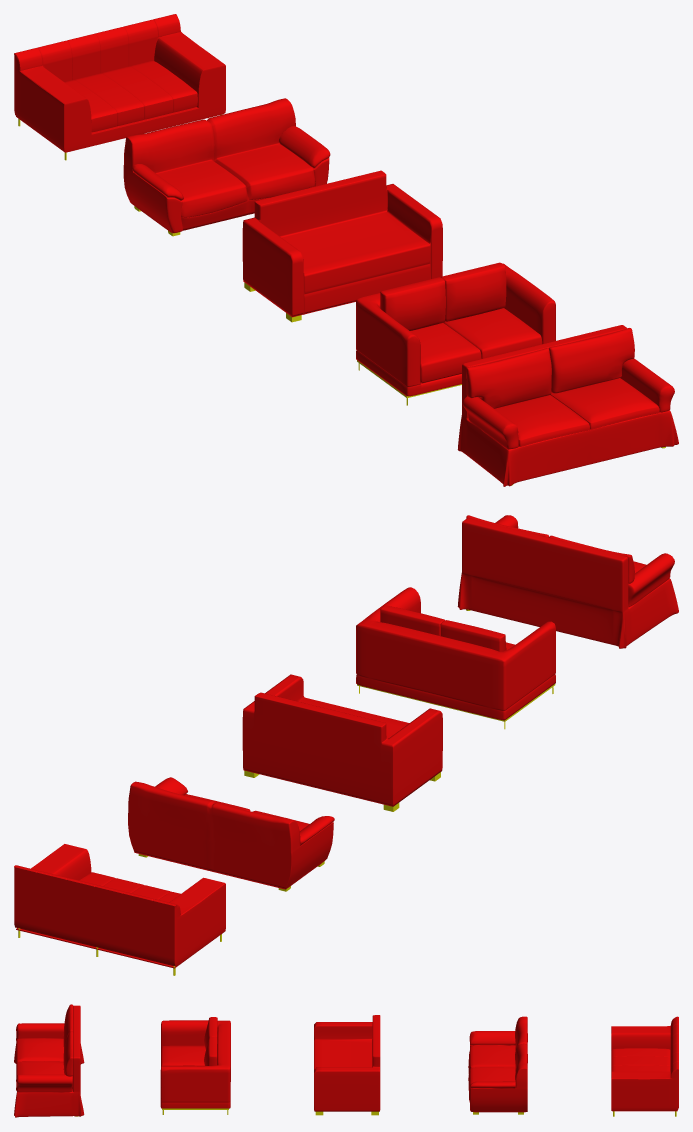
File: RoboTHOR_sofas_grp.fbx
The picture shows the model from 3 angles, top to bottom: view 1: azimuth 30°, elevation 25°; view 2: azimuth 150°, elevation 25°; view 3: azimuth 270°, elevation 25°; orthographic projection. The views are drawn at different scales.
Parts seen in each view (by area): view 1: robothor_sofa_ektorp, robothor_sofa_solsta, robothor_sofa_kramfors, robothor_sofa_vreta, robothor_sofa_alrid; view 2: robothor_sofa_ektorp, robothor_sofa_solsta, robothor_sofa_alrid, robothor_sofa_kramfors, robothor_sofa_vreta; view 3: robothor_sofa_ektorp, robothor_sofa_alrid, robothor_sofa_solsta, robothor_sofa_kramfors, robothor_sofa_vreta.
Boxes of the visible parts, x1,y1,x2,y2 form: robothor_sofa_ektorp: (457, 325, 678, 486); robothor_sofa_solsta: (242, 170, 442, 322); robothor_sofa_kramfors: (14, 14, 225, 160); robothor_sofa_vreta: (123, 98, 330, 236); robothor_sofa_alrid: (356, 262, 555, 405); robothor_sofa_ektorp: (457, 515, 678, 648); robothor_sofa_solsta: (242, 674, 442, 811); robothor_sofa_alrid: (356, 587, 555, 729); robothor_sofa_kramfors: (14, 844, 225, 975); robothor_sofa_vreta: (128, 777, 334, 891); robothor_sofa_ektorp: (14, 1004, 84, 1117); robothor_sofa_alrid: (160, 1017, 230, 1114); robothor_sofa_solsta: (314, 1015, 380, 1115); robothor_sofa_kramfors: (611, 1016, 678, 1116); robothor_sofa_vreta: (468, 1016, 527, 1114).
Size of the model in its own units: 181 by 89.33 by 893.
